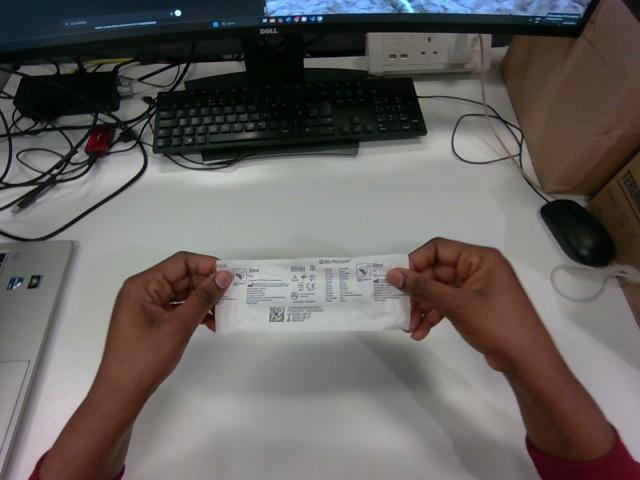syringe: (215, 254, 410, 332)
